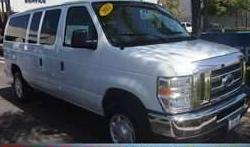front_view: (151, 57, 246, 132)
headlight: (154, 72, 211, 118)
side_glass: (42, 8, 102, 53)
